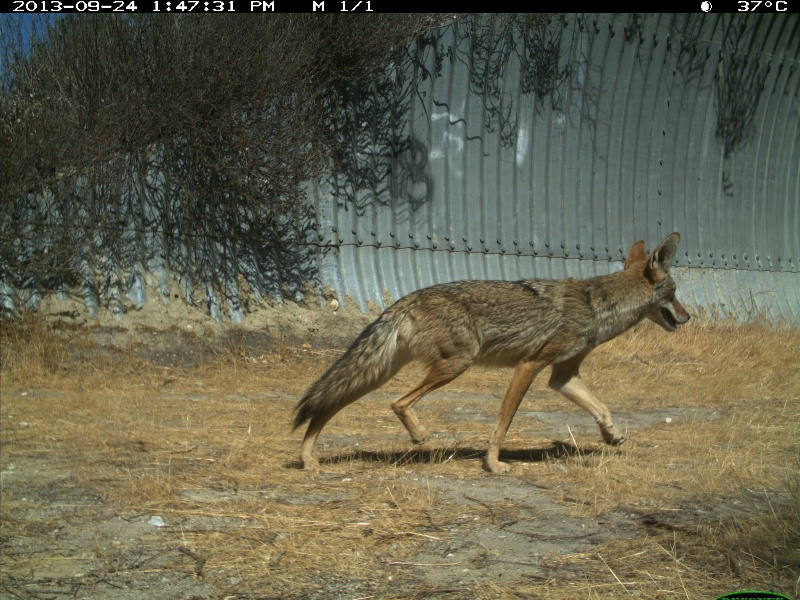coyote: (289, 231, 692, 475)
